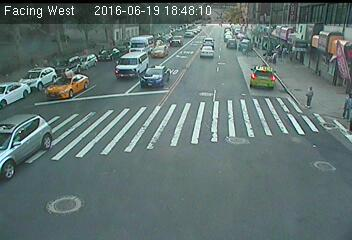neg: (106, 63, 120, 82), (78, 76, 90, 93), (145, 50, 152, 60), (175, 36, 182, 46), (158, 49, 163, 55)
pos: (300, 86, 318, 110)
